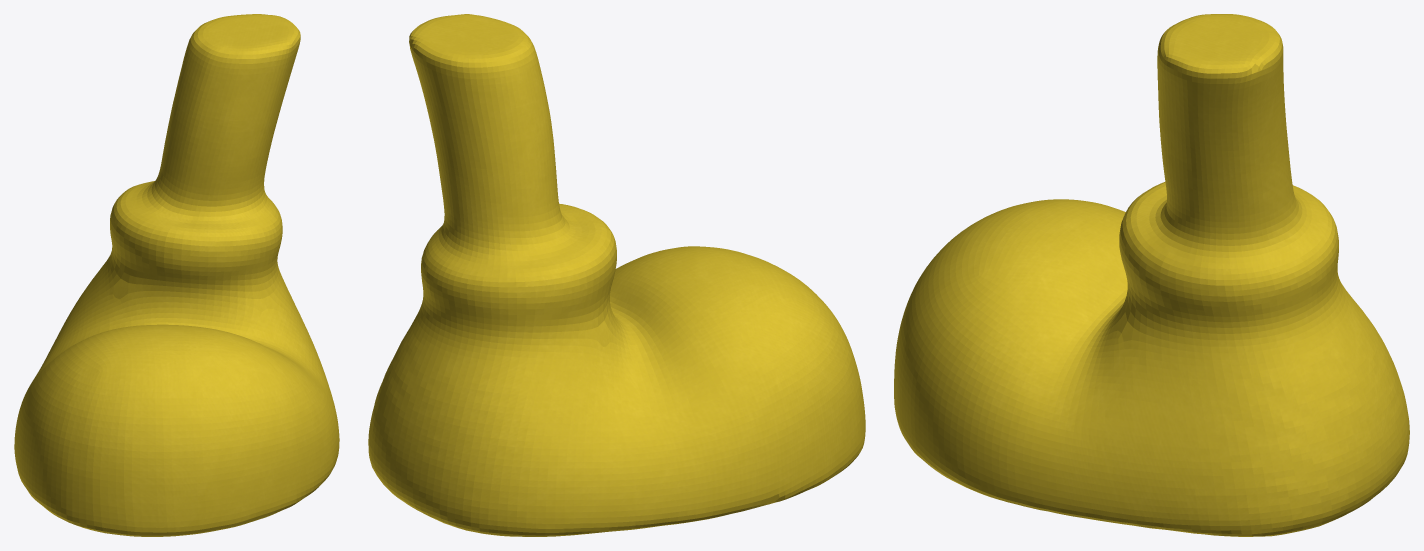
File: Yellow.glb
The picture shows the model from 3 angles, left to right: view 1: azimuth 30°, elevation 25°; view 2: azimuth 150°, elevation 25°; view 3: azimuth 270°, elevation 25°; orthographic projection. The views are drawn at different scales.
Parts seen in each view (by area): view 1: LEG_R; view 2: LEG_R; view 3: LEG_R.
Boxes of the visible parts, <box> form: LEG_R: <box>14,14,339,536</box>; LEG_R: <box>368,14,865,536</box>; LEG_R: <box>894,14,1409,536</box>.
Bounding box in the file's own units: 30.14 × 32.24 × 32.32.
1 material, 1 textured.
